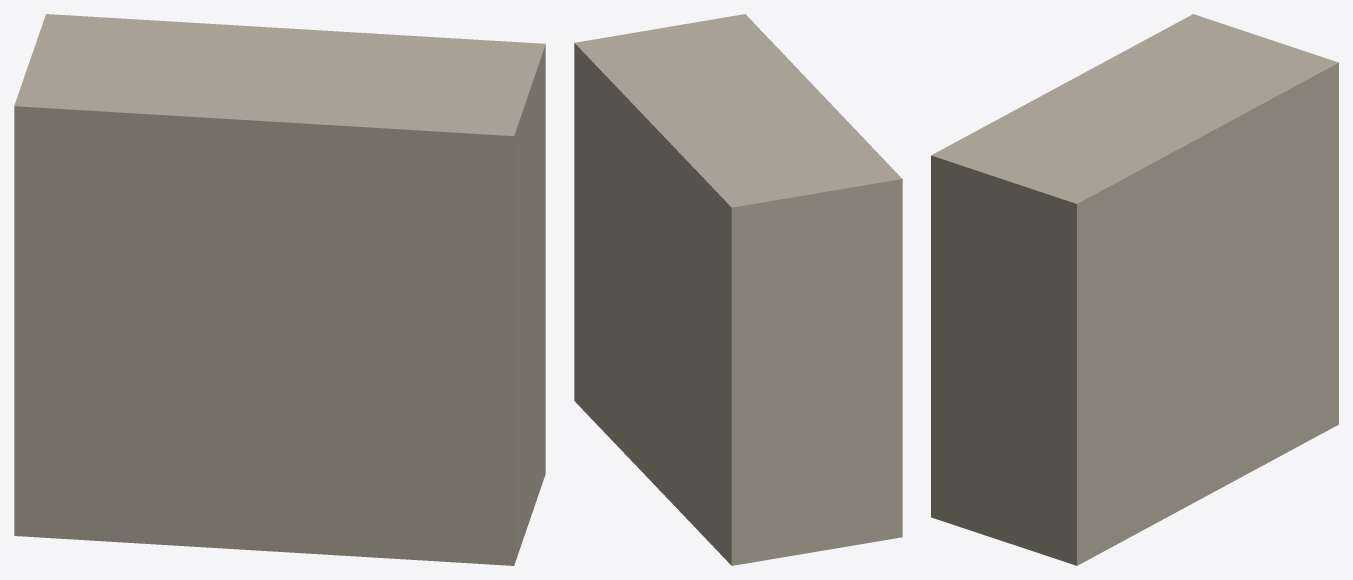
The model's file is kalkara_65_23_collision.glb.
3 renders of one model, left to right at view 1: azimuth 30°, elevation 25°; view 2: azimuth 150°, elevation 25°; view 3: azimuth 270°, elevation 25°, orthographic. The views are drawn at different scales.
Parts seen in each view (by area): view 1: geometry_0; view 2: geometry_0; view 3: geometry_0.
Part boxes in pixels (x1,y1,x2,y2): geometry_0: (14,14,545,565); geometry_0: (574,14,902,565); geometry_0: (931,14,1338,565).
Bounding box in the file's own units: 12.46 × 11.06 × 11.3.
